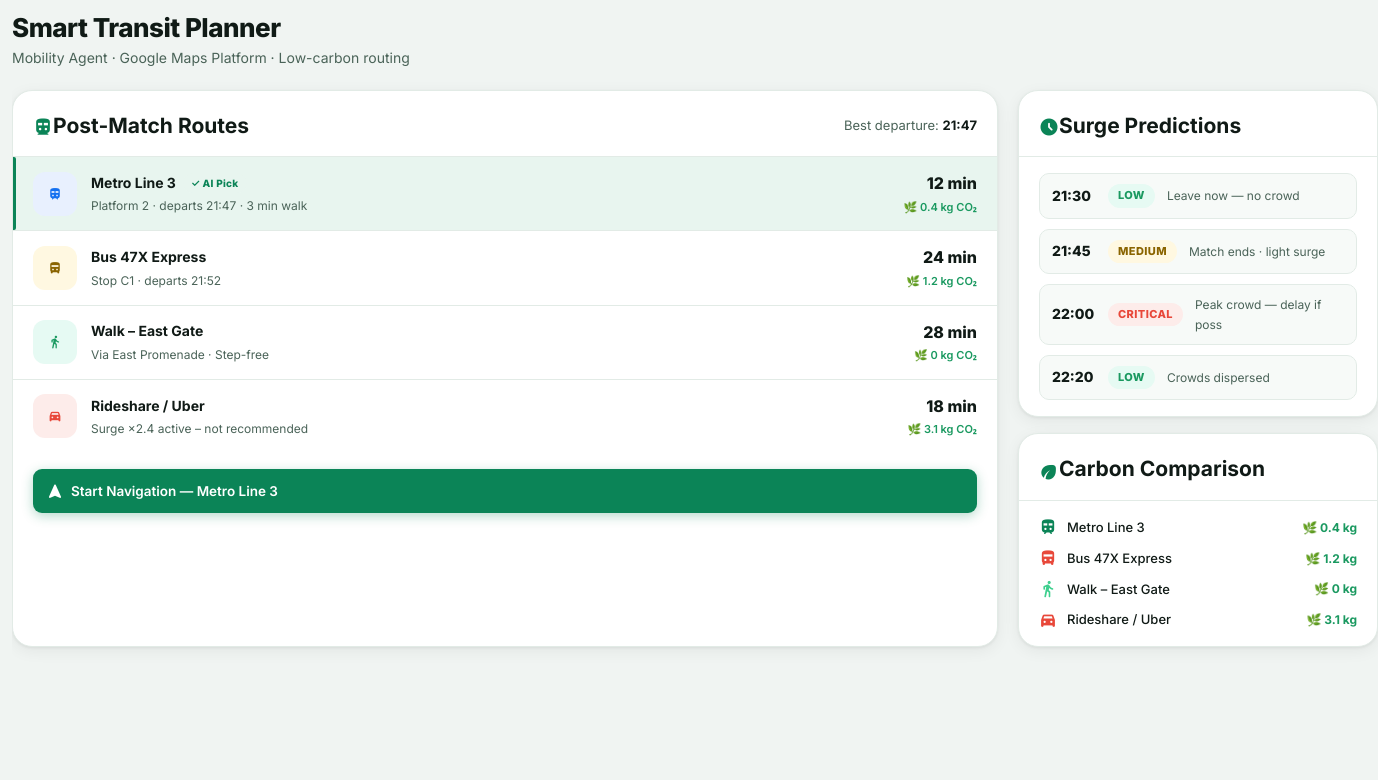
TransitPlanner Component › updates the Start Navigation button when a transit is selected
This screenshot has width=1378, height=780.
Click the option "Bus 47X Express Stop C1 · departs 21:52 24 min 🌿 1.2 kg CO₂" at x=55, y=268, box [13, 231, 997, 306]
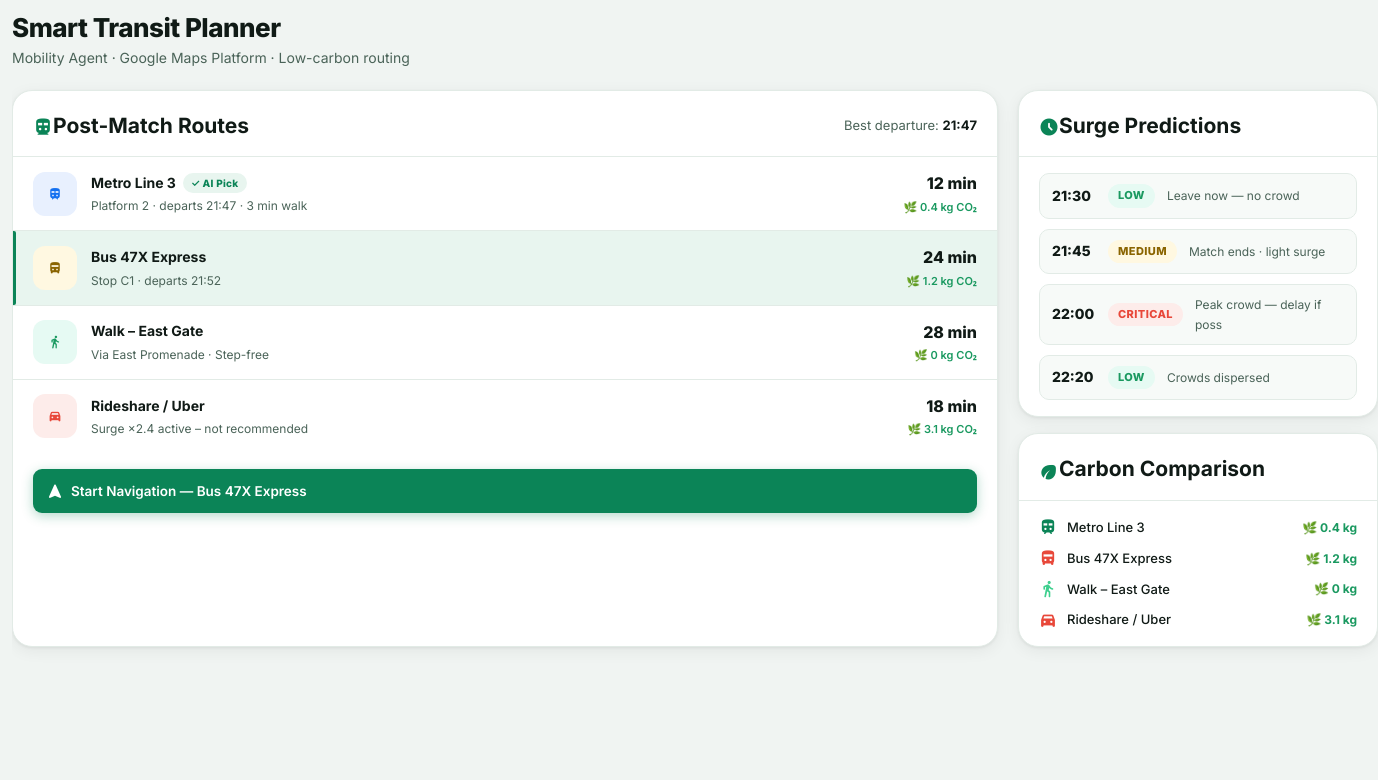
Now the button "Start Navigation — Bus 47X Express" is shown, box [33, 469, 977, 513]
